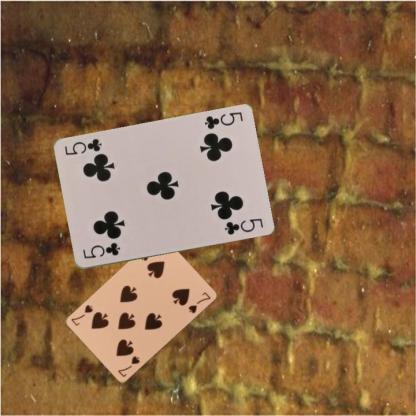5c: (202, 110, 244, 131), (80, 240, 121, 260)
7s: (115, 354, 141, 378)
